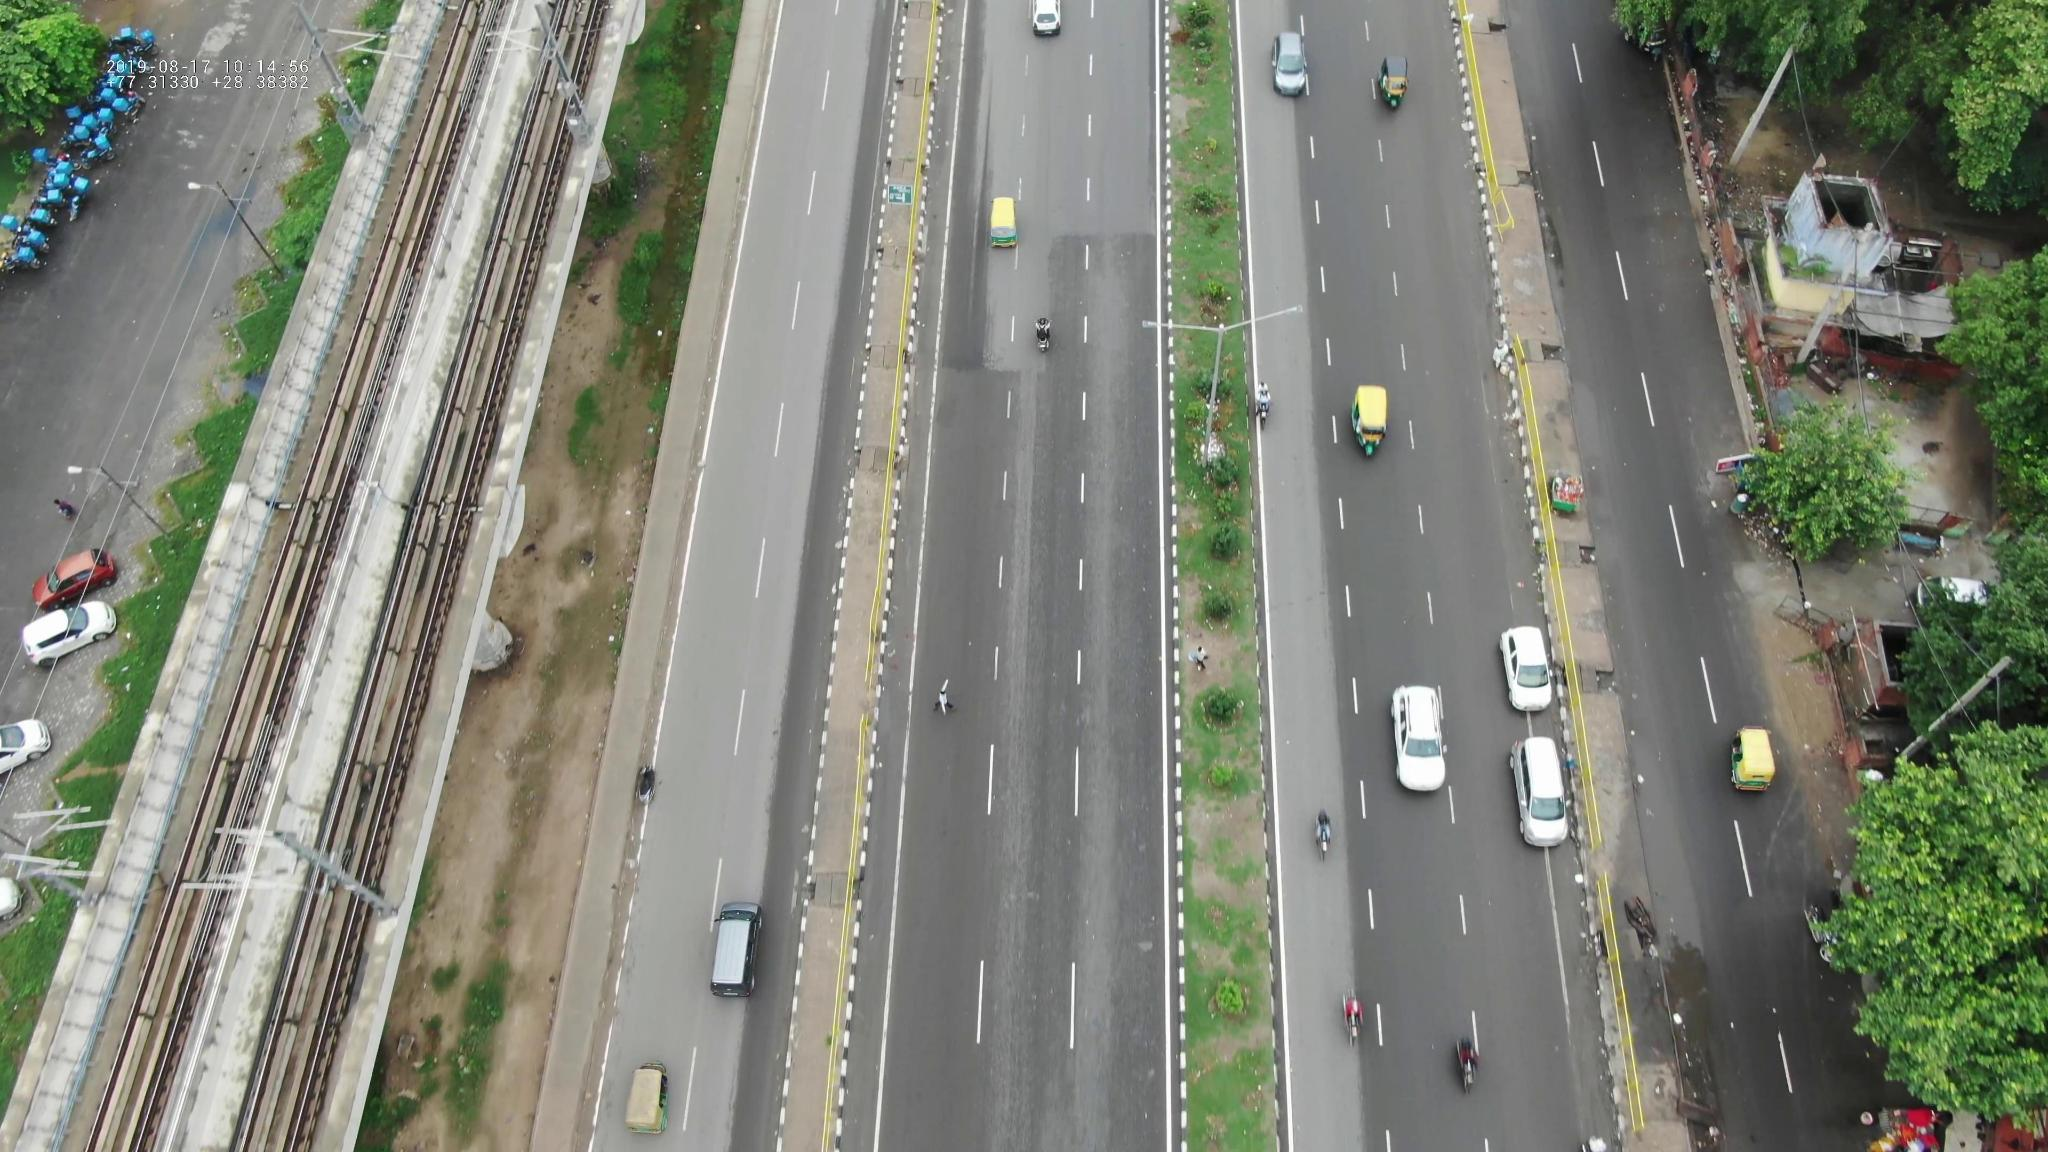Waterlogging: (1634, 805, 1729, 1090)
